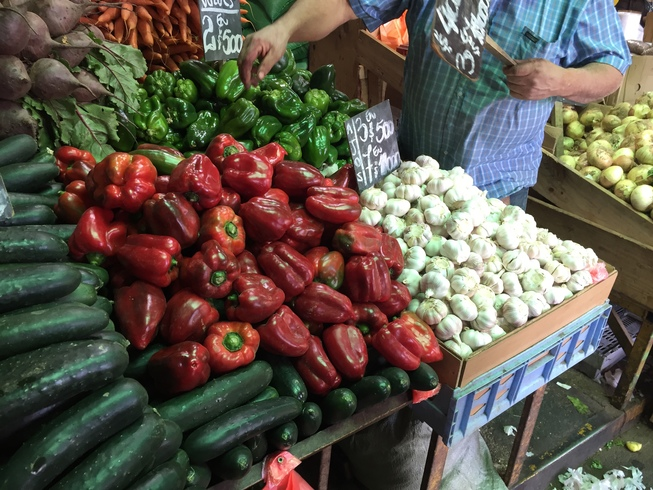precio: (349, 97, 401, 192), (433, 1, 493, 78), (194, 1, 240, 65)
